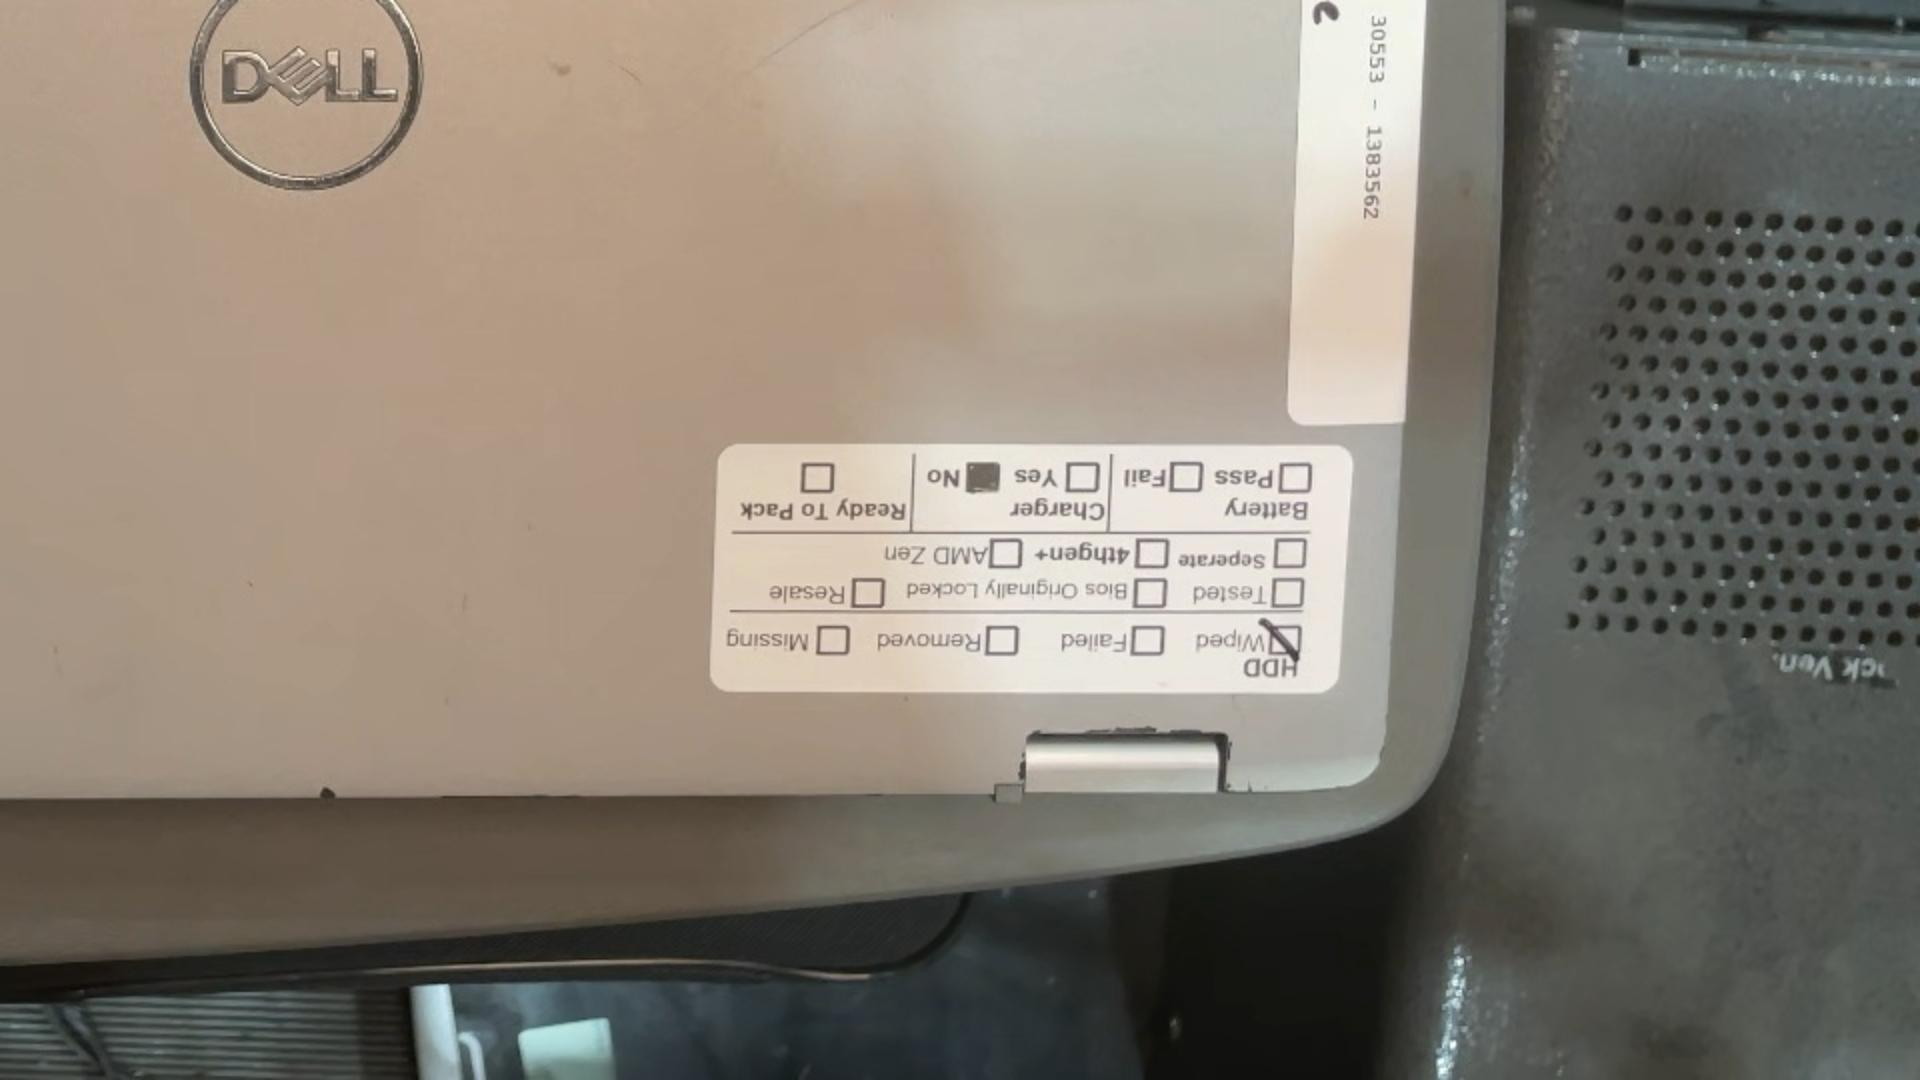chip: (1086, 725, 1157, 734), (317, 783, 338, 799), (1169, 728, 1203, 734), (1018, 754, 1025, 781), (1226, 741, 1234, 761), (1026, 728, 1043, 735), (1247, 779, 1253, 793)
scratches: (751, 0, 887, 69), (613, 63, 645, 88)
